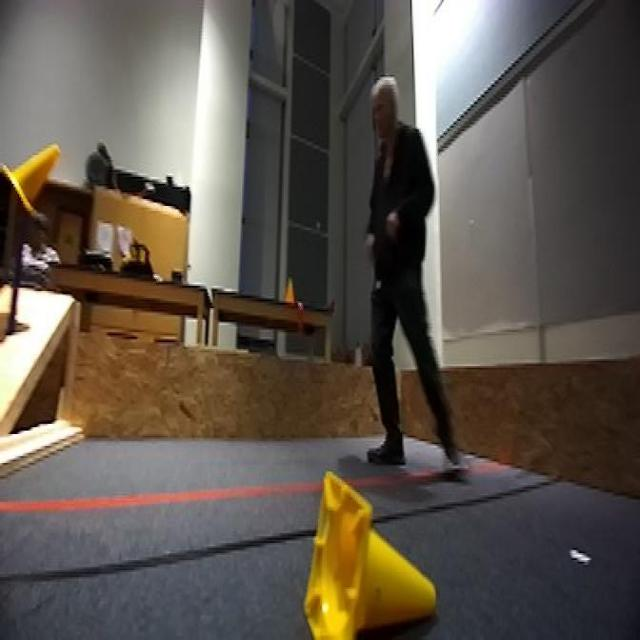frc_cone: (302, 471, 435, 640), (1, 140, 61, 220)
